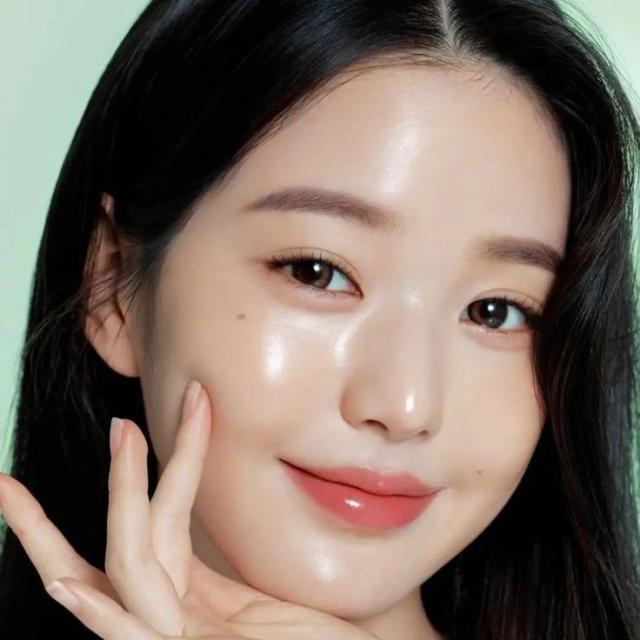oily: (344, 94, 536, 196), (200, 304, 341, 424), (271, 528, 402, 608), (457, 367, 527, 503), (378, 313, 450, 423)
